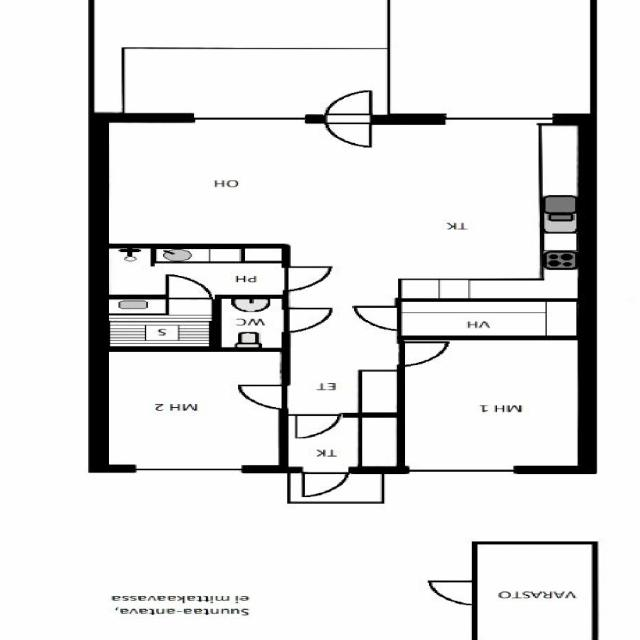door: (325, 90, 370, 124), (325, 114, 370, 147), (303, 466, 347, 496), (397, 342, 451, 366), (351, 306, 405, 330), (282, 309, 335, 332), (281, 267, 334, 290), (427, 581, 478, 604), (167, 272, 210, 299), (239, 386, 290, 408), (296, 413, 338, 439)
